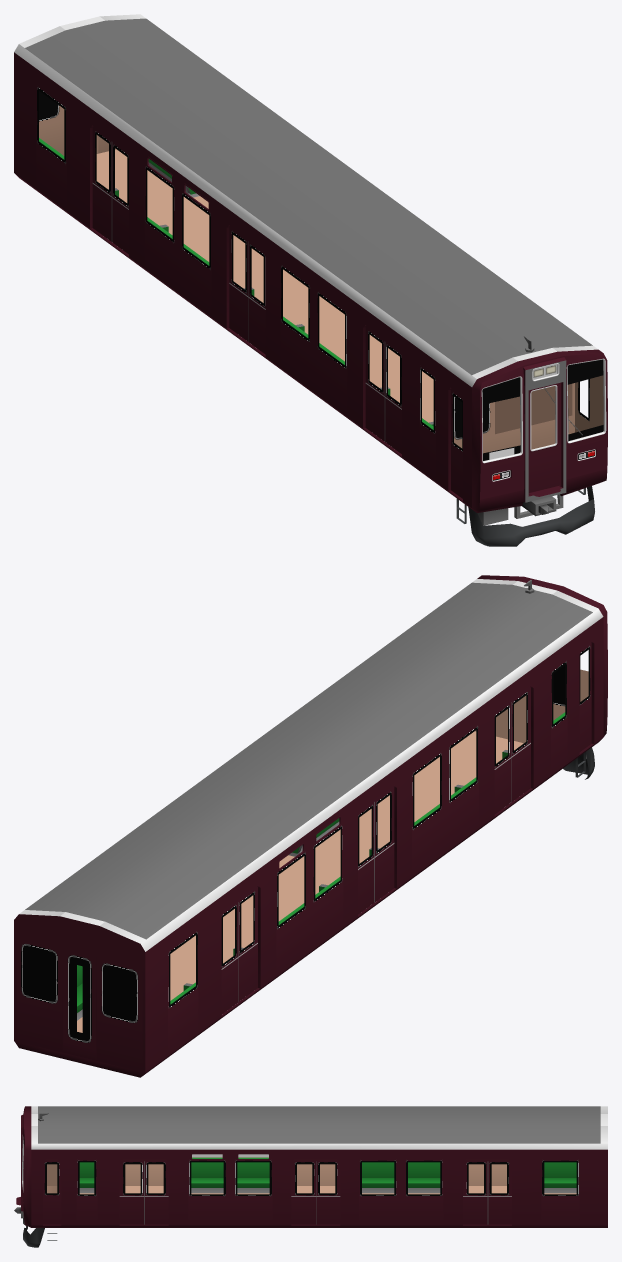
The model's file is HANKYU8200_1.glb.
3 views of the same model, one above another, from view 1: azimuth 30°, elevation 25°; view 2: azimuth 150°, elevation 25°; view 3: azimuth 270°, elevation 25° (orthographic). The views are drawn at different scales.
Visible parts, largest first — view 1: front; view 2: front; view 3: front.
Part boxes in pixels (x1,y1,x2,y2): front: (14,14,607,546); front: (14,575,607,1077); front: (14,1106,607,1247).
Bounding box in the file's own units: 6.25 × 8.7 × 38.73.
13 materials, 12 textured.
